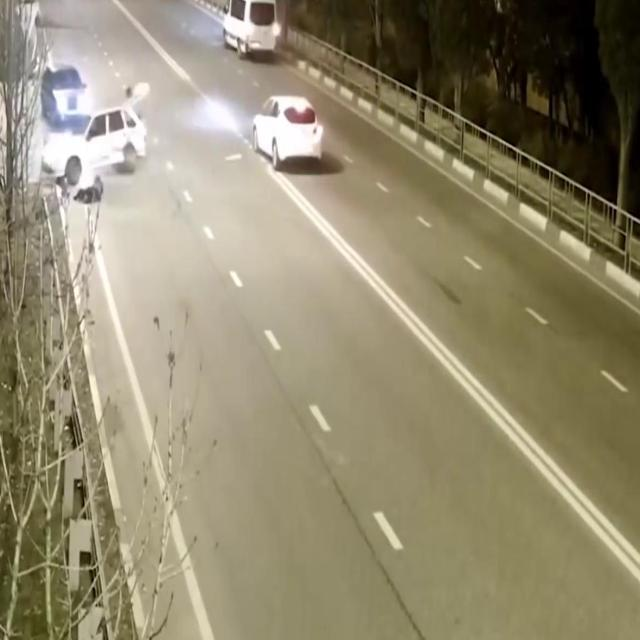accident: (35, 76, 157, 216)
